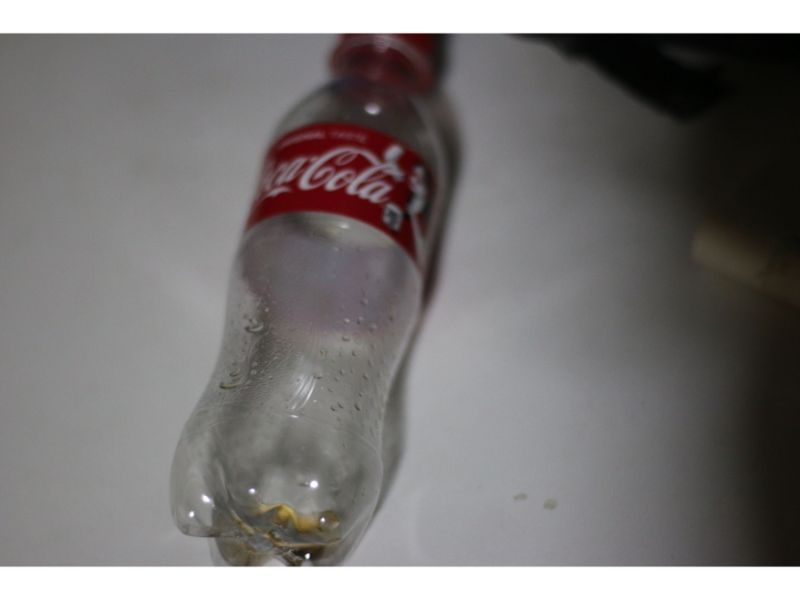PET #1: (167, 37, 457, 563)
